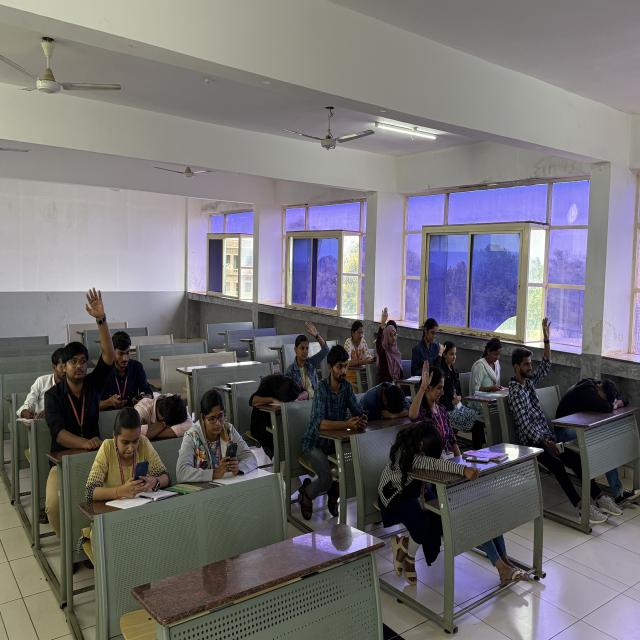Hand Rising: (42, 299, 116, 457), (503, 312, 560, 450), (388, 358, 466, 427), (282, 310, 331, 400), (373, 302, 404, 386), (434, 339, 468, 390)
Sleeping: (378, 402, 456, 498), (556, 333, 624, 423), (244, 349, 304, 443), (370, 363, 417, 440), (141, 385, 196, 450)
Using Phone: (84, 406, 170, 508), (304, 340, 375, 443), (184, 390, 242, 498), (96, 321, 154, 409)
